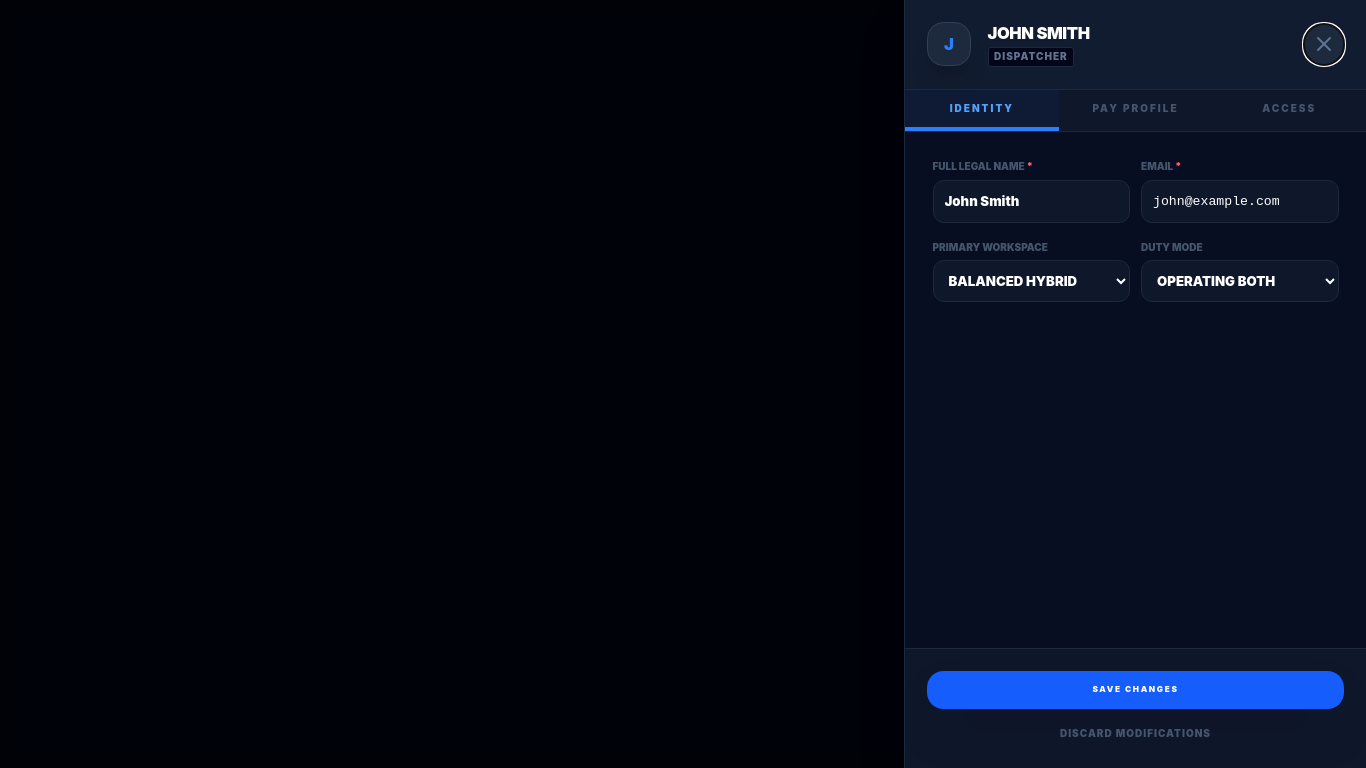
it: EditUserModal / UserProfilePanel › switches to Access tab and shows permission toggles
The width and height of the screenshot is (1366, 768).
Click the button "Access". click: click(1289, 110)
box: [1212,90,1365,130]
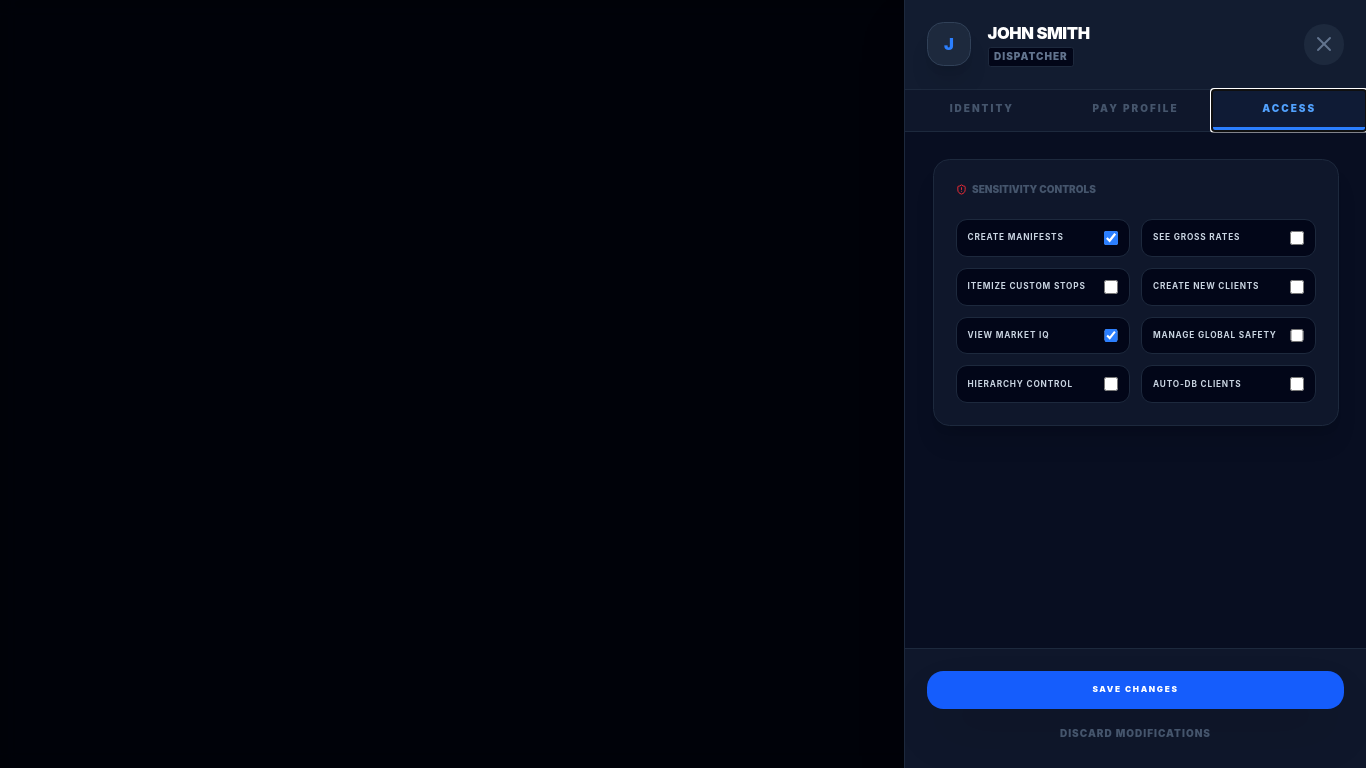
Expected: the heading "Sensitivity Controls" is shown, [956,183,1096,195]
Expected: the text "Create Manifests" is shown, [968,232,1064,243]
Expected: the text "See Gross Rates" is shown, [1153,232,1240,243]
